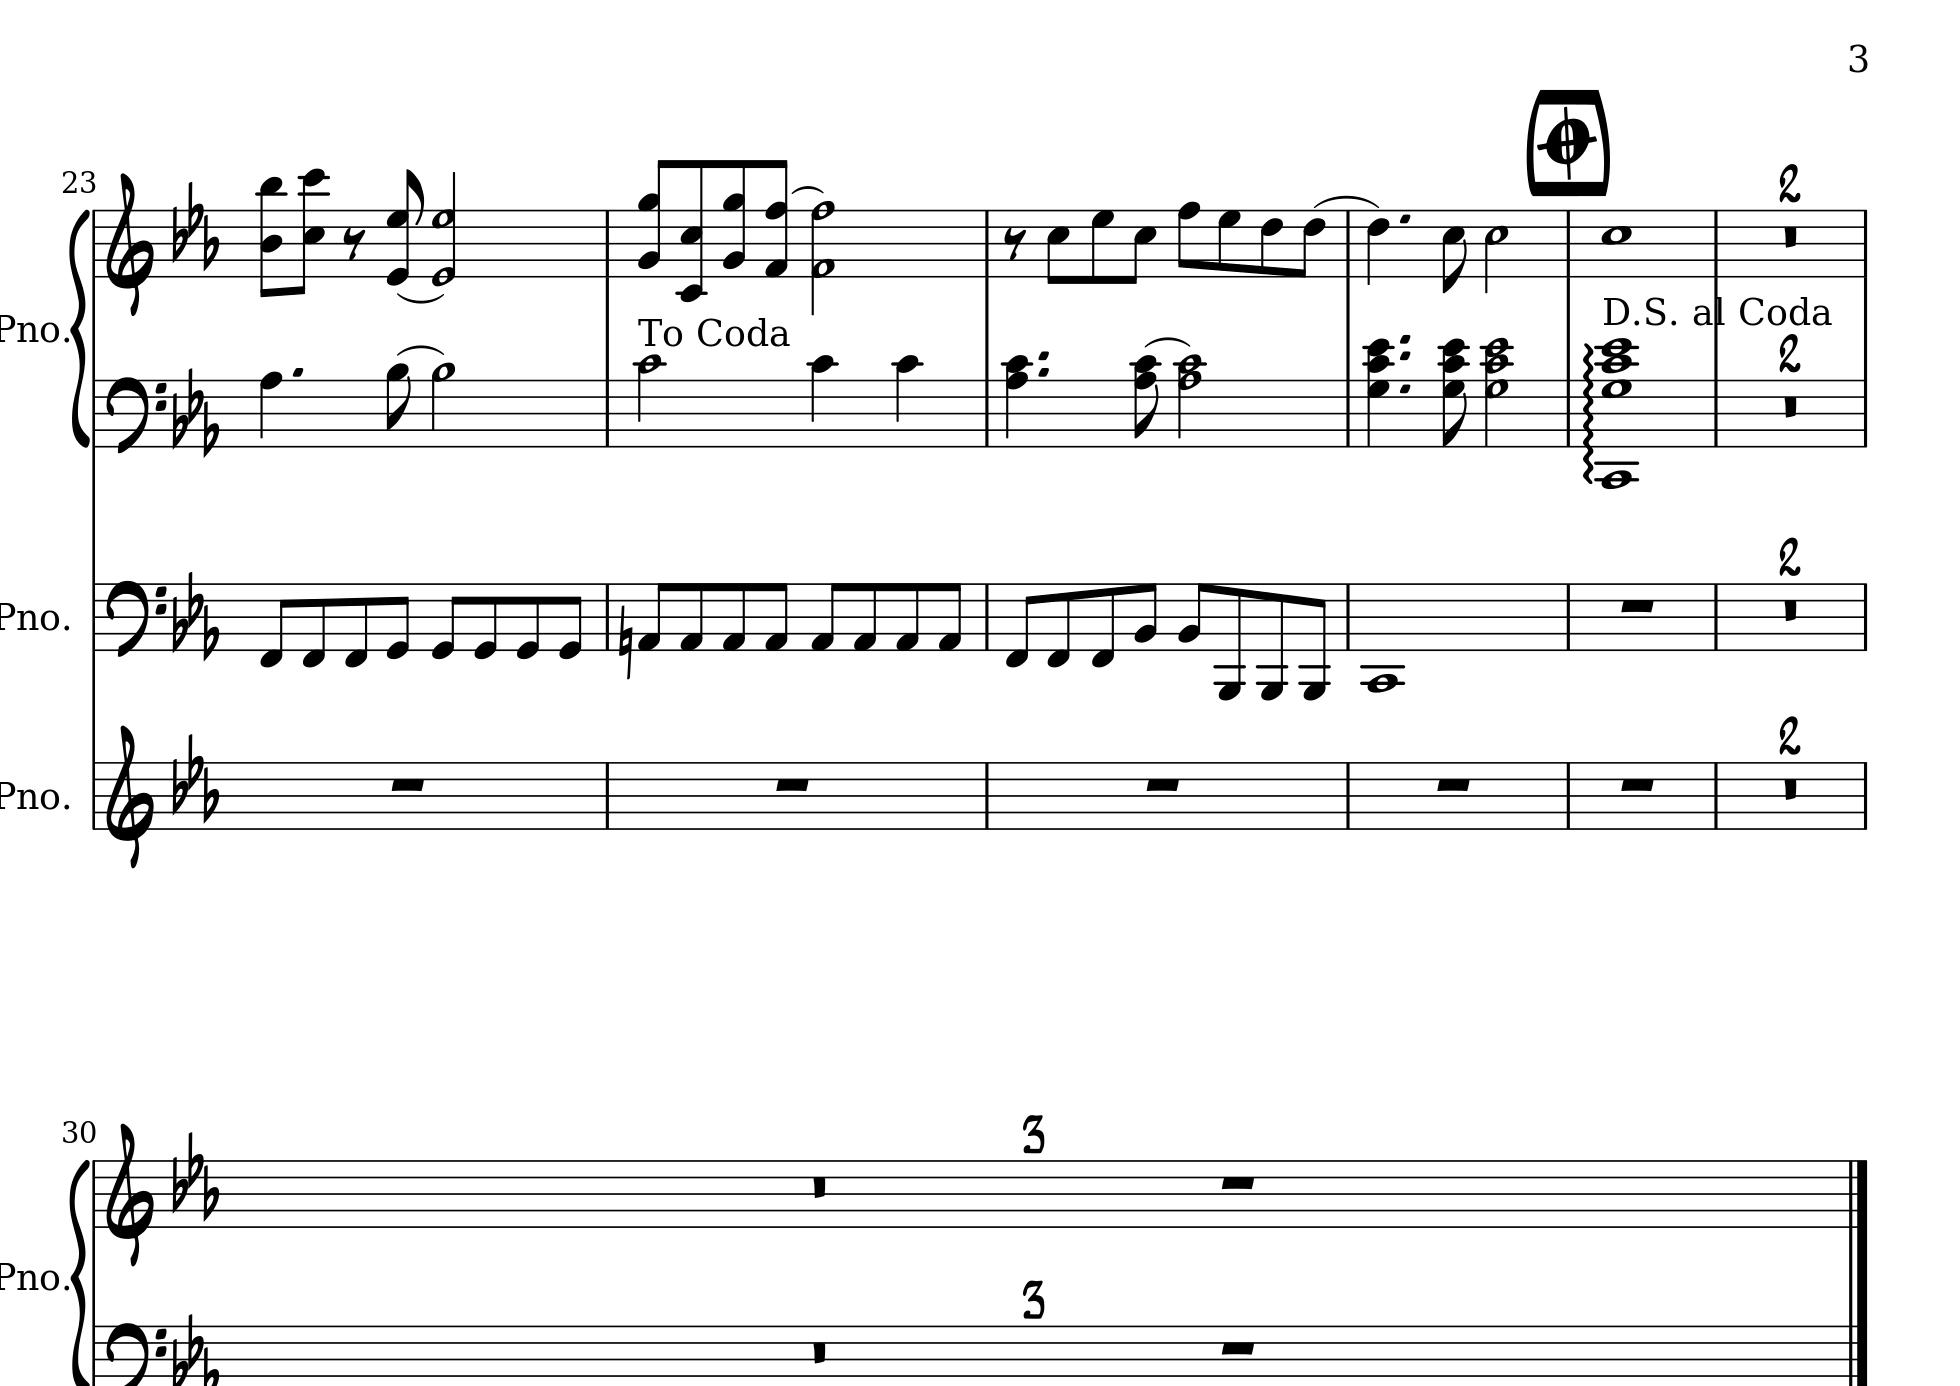0: (78, 1117, 96, 1144)
1_-4: (1362, 580, 1404, 694)
1_4th: (1599, 333, 1641, 493)
1_5: (1600, 208, 1633, 279)
2: (1776, 157, 1807, 205), (1776, 330, 1806, 376), (1776, 712, 1803, 756), (1777, 534, 1803, 576), (60, 168, 79, 195)
2_0_7: (430, 171, 457, 286)
2_10: (634, 354, 664, 450)
2_1_8: (808, 198, 835, 316)
2_5: (1483, 208, 1510, 294)
2_8_10: (1173, 351, 1207, 448)
2_9: (429, 361, 456, 448)
2_th: (1480, 334, 1515, 448)
3: (1020, 1276, 1050, 1321), (1020, 1111, 1048, 1155), (1848, 40, 1870, 75), (78, 168, 97, 193), (60, 1117, 76, 1143)
4_10: (807, 352, 838, 450), (892, 354, 922, 450)
4_4th: (1363, 340, 1395, 450)
4_6: (1365, 208, 1390, 286)
4_8: (258, 370, 283, 450)
4_8_10: (1000, 352, 1033, 448)
8_-1: (1002, 580, 1038, 670), (256, 580, 291, 670), (1045, 580, 1074, 670), (1089, 580, 1117, 670), (300, 580, 327, 670), (343, 580, 370, 670)
8_-2_5: (675, 157, 709, 303)
8_-5: (1215, 580, 1246, 700), (1300, 580, 1332, 700), (1258, 579, 1288, 700)
8_0: (430, 580, 463, 660), (472, 580, 499, 661), (514, 580, 541, 661), (385, 580, 412, 660), (558, 580, 583, 661)
8_0_7: (384, 169, 426, 288)
8_1: (808, 580, 841, 652), (637, 580, 669, 652), (762, 580, 790, 654), (936, 580, 964, 654), (720, 580, 748, 652), (850, 580, 879, 652), (892, 580, 921, 652), (678, 580, 705, 652)
8_1_8: (763, 157, 790, 279)
8_2: (1176, 580, 1209, 652), (1132, 580, 1158, 651)
8_2_9: (637, 157, 672, 280), (720, 157, 748, 280)
8_4_11: (255, 174, 286, 298)
8_5: (1126, 208, 1158, 286), (1440, 208, 1467, 295), (1045, 208, 1071, 285)
8_5_12: (295, 166, 328, 295)
8_6: (1296, 208, 1327, 279), (1260, 207, 1284, 279)
8_7: (1089, 207, 1116, 285), (1216, 208, 1242, 277)
8_8: (1176, 199, 1201, 279)
8_8_10: (1129, 352, 1165, 450)
8_9: (384, 361, 412, 448)
8_th: (1434, 334, 1471, 451)
A_F: (169, 178, 220, 271), (169, 364, 220, 457), (169, 730, 219, 823)
Arpeggio: (1578, 337, 1602, 487)
Brace: (69, 205, 91, 448), (70, 1156, 90, 1386)
Coda: (1542, 105, 1594, 175)
DSalcoda: (1597, 291, 1837, 331)
E_F: (169, 568, 219, 658), (171, 1129, 219, 1221), (169, 1311, 220, 1386)
Fclef: (103, 373, 168, 457), (103, 577, 168, 660)
Final_barline: (1845, 1158, 1872, 1225), (1845, 1324, 1869, 1383)
Gclef: (103, 721, 154, 868), (103, 1120, 154, 1267), (103, 171, 154, 316)
Natural: (616, 601, 634, 679)
Pno: (1, 310, 60, 345), (1, 1258, 58, 1293), (1, 600, 60, 633), (1, 780, 60, 811)
Rests1: (1141, 772, 1185, 793), (1216, 1171, 1260, 1192), (1216, 1336, 1260, 1357), (387, 772, 429, 793), (1432, 772, 1474, 793), (1617, 772, 1659, 793), (772, 772, 813, 793), (1617, 595, 1659, 615)
Rests8: (340, 226, 367, 262), (1002, 225, 1027, 259)
Single_barline: (1855, 379, 1875, 445), (1707, 760, 1725, 829), (1560, 210, 1578, 277), (1707, 379, 1725, 447), (598, 762, 616, 829), (1560, 762, 1578, 829), (1857, 762, 1875, 829), (598, 210, 616, 276), (978, 210, 996, 276), (1707, 210, 1725, 276), (1341, 211, 1359, 277), (978, 379, 996, 445), (598, 583, 616, 649), (978, 583, 996, 649), (1560, 583, 1578, 649), (1707, 583, 1725, 649), (1857, 583, 1875, 649), (1857, 208, 1873, 276), (1341, 379, 1357, 447), (1560, 379, 1576, 445), (85, 583, 100, 651), (1341, 762, 1356, 829), (600, 379, 615, 445), (1341, 583, 1356, 649), (979, 763, 994, 829), (88, 208, 102, 279), (87, 760, 100, 829), (88, 1159, 102, 1228), (88, 379, 102, 445), (88, 1326, 100, 1384)
Slur: (1314, 193, 1380, 210), (394, 289, 445, 304), (396, 343, 445, 357), (1146, 336, 1191, 349), (790, 184, 825, 195)
ToCoda: (634, 312, 792, 351)
dot: (1035, 346, 1053, 364), (1395, 346, 1414, 363), (1395, 333, 1416, 348), (1036, 364, 1053, 379), (1398, 211, 1413, 226), (289, 364, 306, 378)
